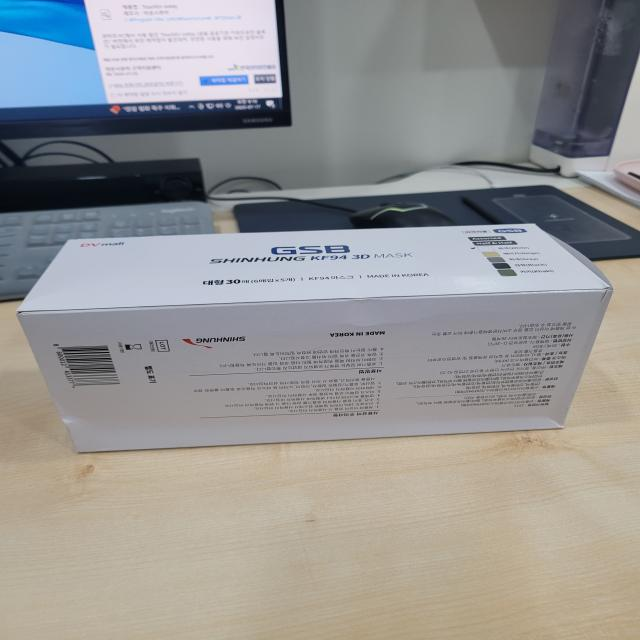mask: (3, 222, 622, 459)
